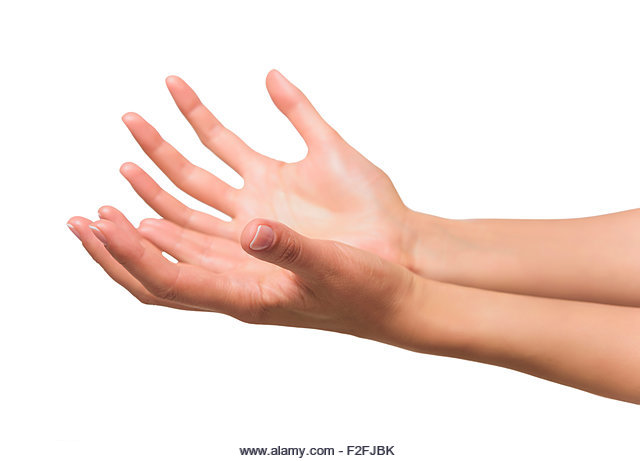non-diseased: (59, 63, 422, 337)
